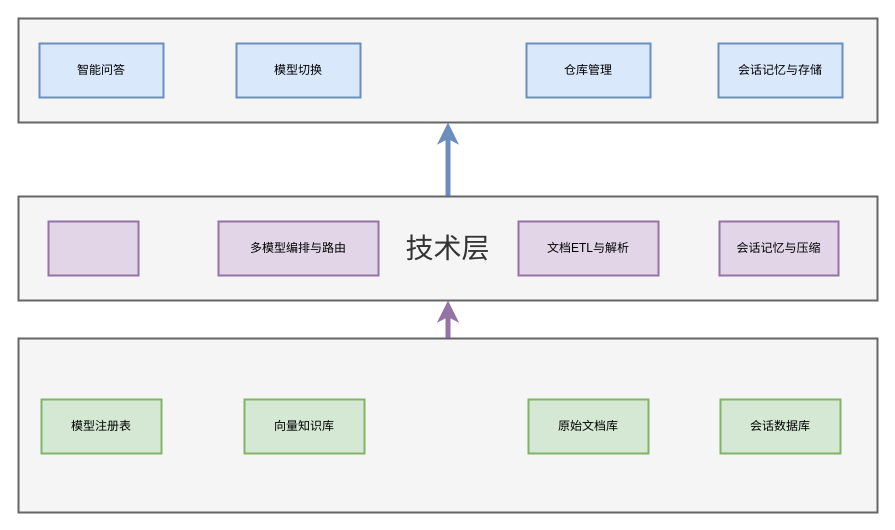
Some shapes in this 895 by 530 pixel diagram are drawn without their labels. Here are the shapes that lost their labels. From the top down, the box of each, then its label:
(17, 17, 878, 123): 功能层
(47, 220, 139, 276): RAG
(17, 337, 878, 513): 数据逻辑层
